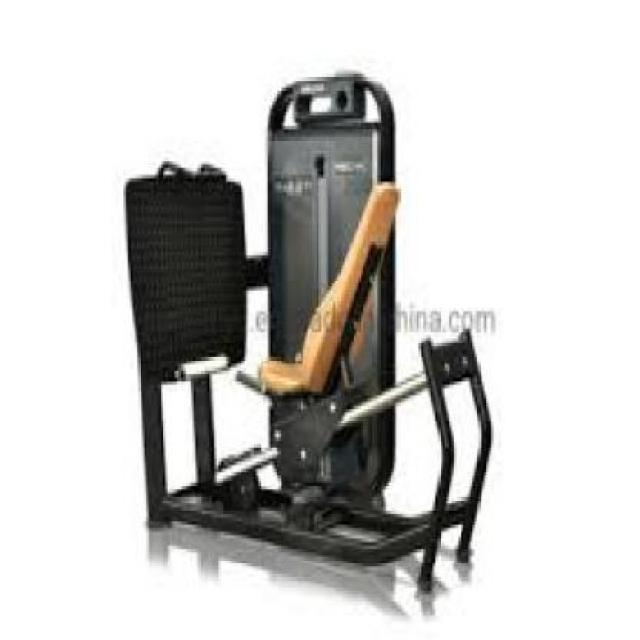leg press: (92, 43, 548, 609)
